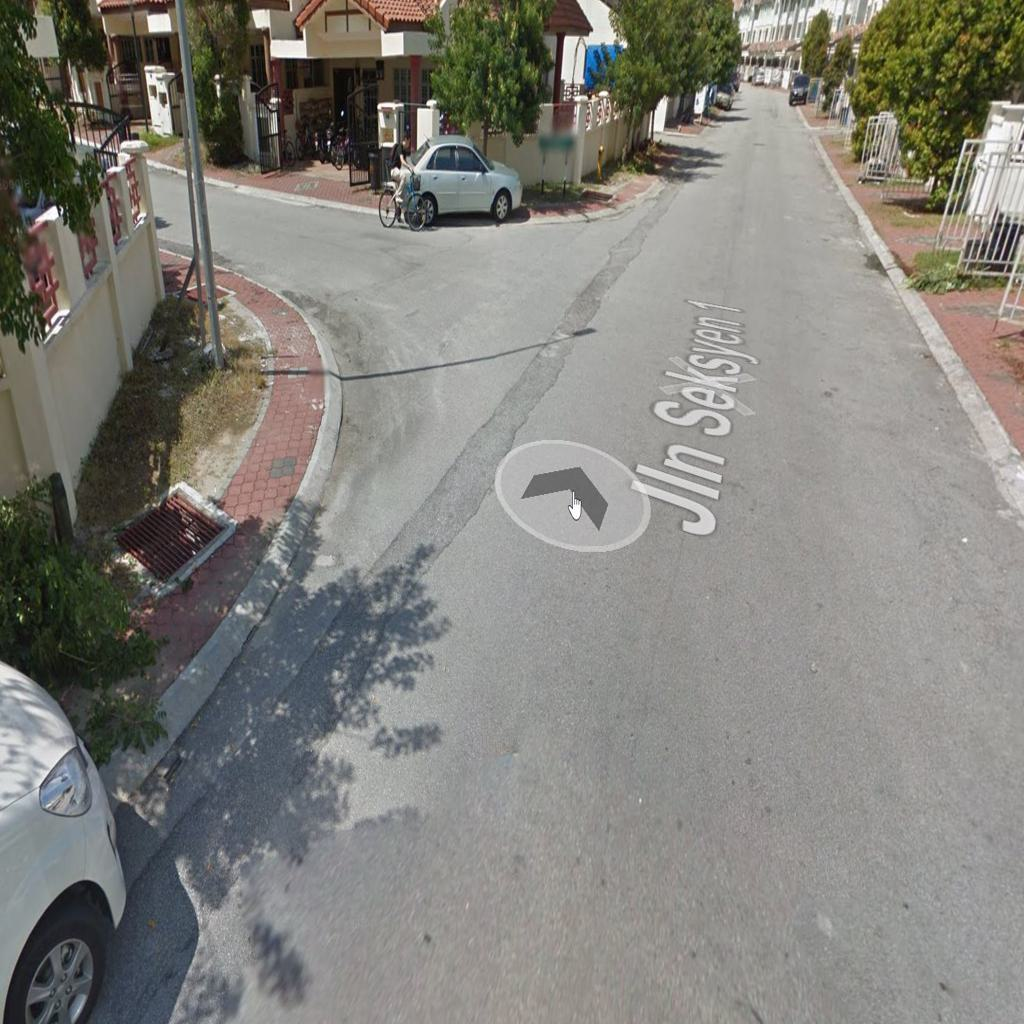Junction: (253, 179, 631, 490)
